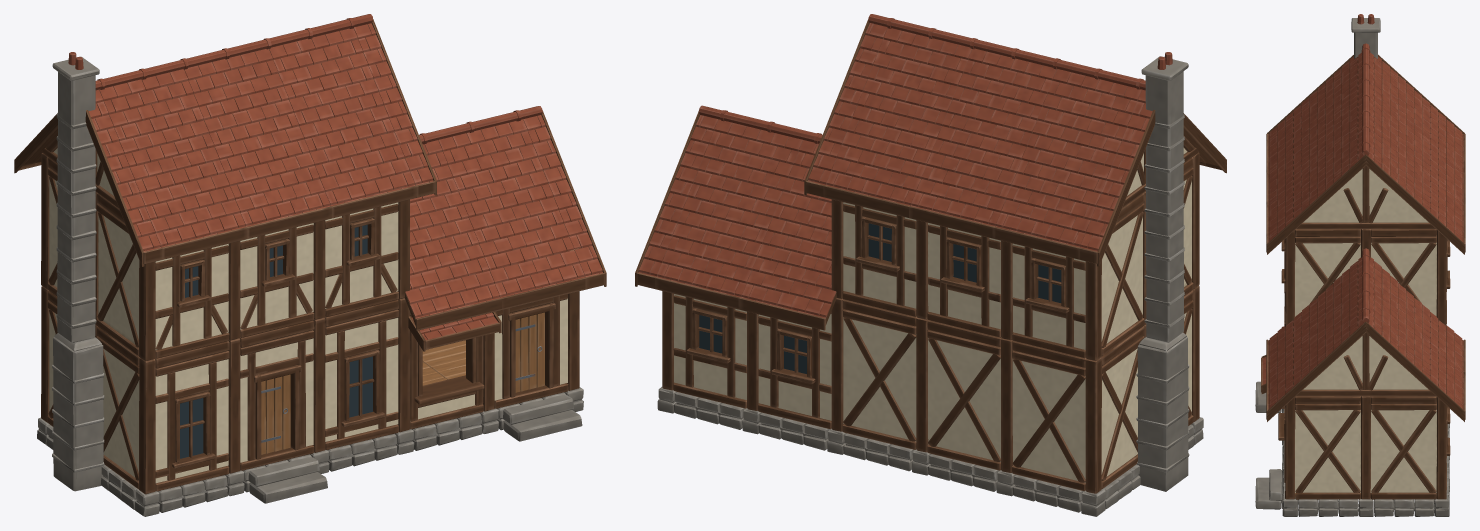
The model's file is house_workshop_godot.glb.
The picture shows the model from 3 angles, left to right: view 1: azimuth 30°, elevation 25°; view 2: azimuth 150°, elevation 25°; view 3: azimuth 270°, elevation 25°; orthographic projection. The views are drawn at different scales.
Parts seen in each view (by area): view 1: house_workshop_static; view 2: house_workshop_static; view 3: house_workshop_static.
Part boxes in pixels (x1,y1,x2,y2): house_workshop_static: (14,14,606,516); house_workshop_static: (635,14,1226,516); house_workshop_static: (1255,14,1465,516).
Size of what is drawn, in the model's own units: 11.36 by 9.62 by 5.54.
7 materials, 7 textured.
